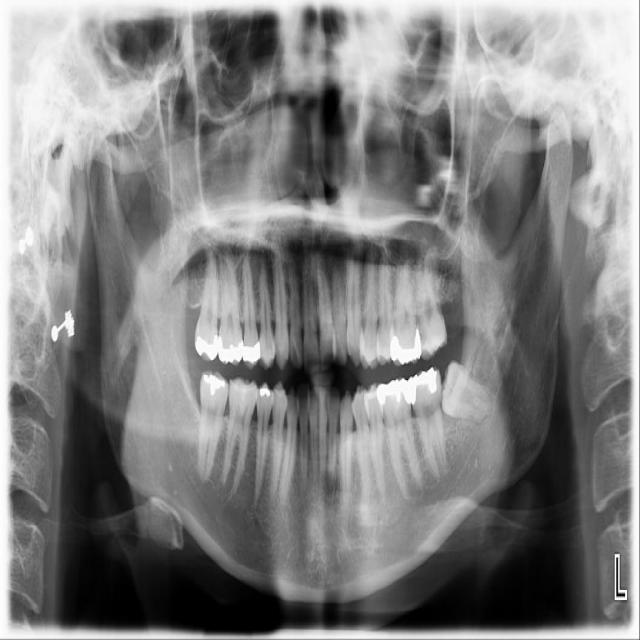Filling: (391, 330, 423, 366), (408, 368, 439, 405), (377, 379, 410, 406), (217, 336, 245, 364), (195, 333, 220, 361), (199, 373, 227, 395), (244, 340, 262, 364), (256, 384, 271, 399)
impacted tooth: (441, 361, 493, 423)
